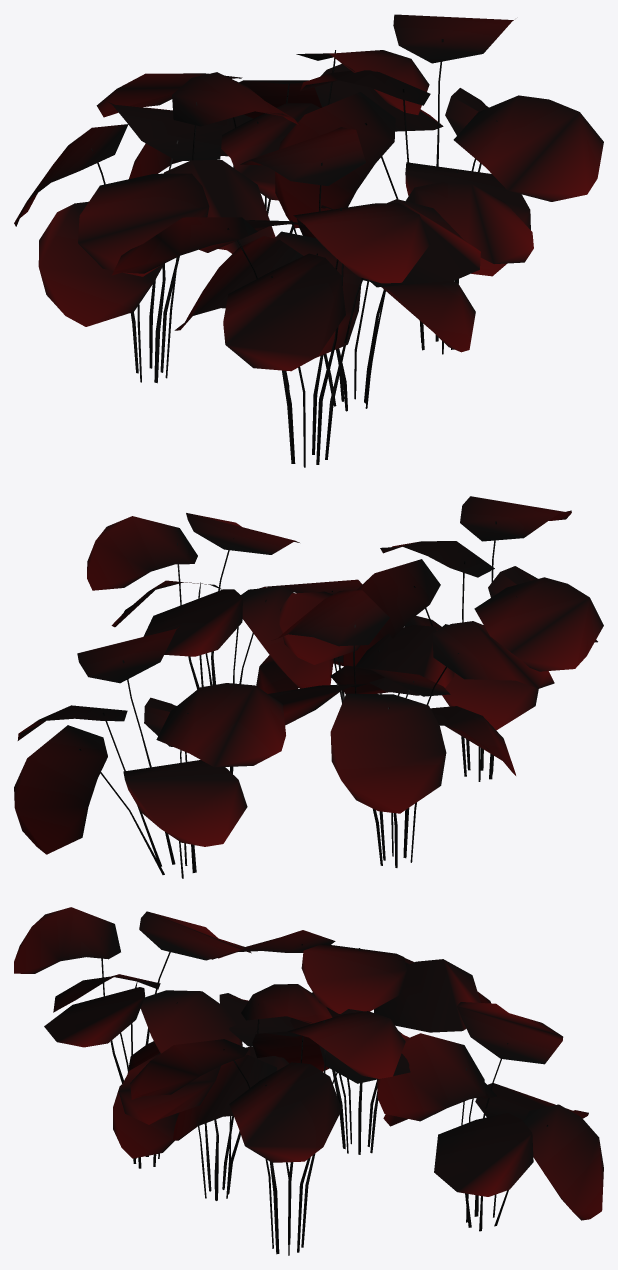
Rendered from Bush02C.fbx.
The picture shows the model from 3 angles, top to bottom: view 1: azimuth 30°, elevation 25°; view 2: azimuth 150°, elevation 25°; view 3: azimuth 270°, elevation 25°; orthographic projection. The views are drawn at different scales.
Parts seen in each view (by area): view 1: Bush02C; view 2: Bush02C; view 3: Bush02C.
Part boxes in pixels (x1,y1,x2,y2): Bush02C: (14,14,603,467); Bush02C: (14,496,603,878); Bush02C: (14,907,603,1255).
Bounding box in the file's own units: 2.07 × 1.19 × 2.55.
